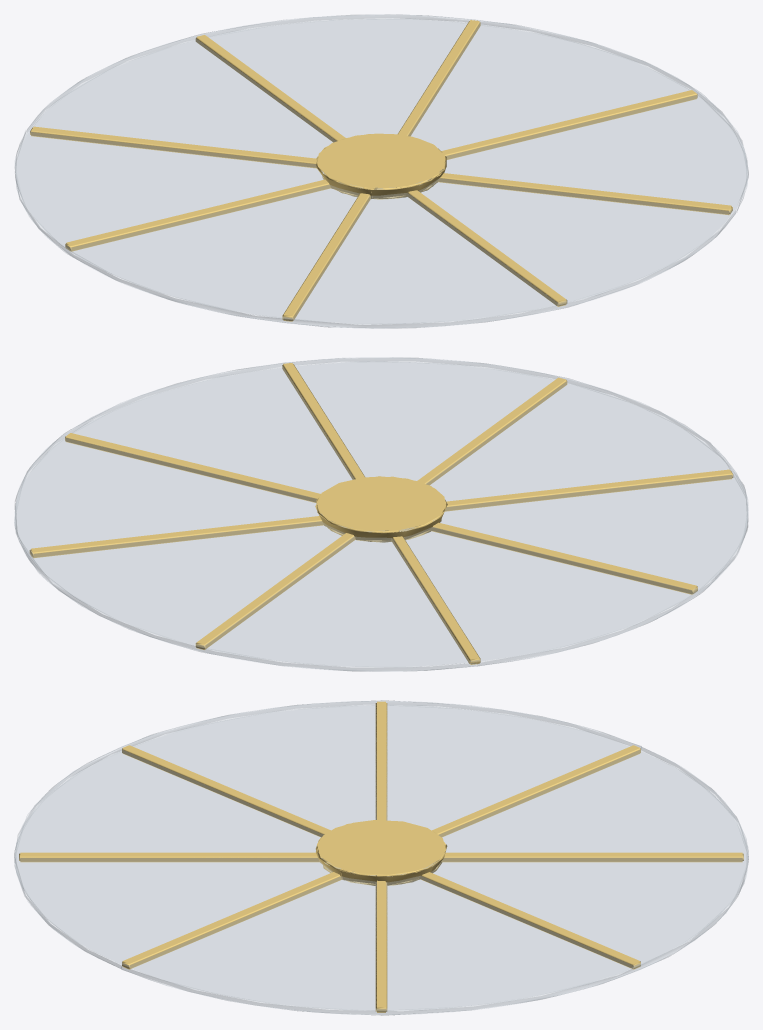
The model's file is boss_arena_glass.glb.
The picture shows the model from 3 angles, top to bottom: view 1: azimuth 30°, elevation 25°; view 2: azimuth 150°, elevation 25°; view 3: azimuth 270°, elevation 25°; orthographic projection.
Visible parts, largest first — view 1: GlassDisk, CenterGlassHub, Mullion_-0.79, Mullion_0.00, Mullion_1.57, Mullion_0.79; view 2: GlassDisk, CenterGlassHub, Mullion_0.79, Mullion_0.00, Mullion_1.57, Mullion_-0.79; view 3: GlassDisk, CenterGlassHub, Mullion_1.57, Mullion_-0.79, Mullion_0.79, Mullion_0.00.
Boxes of the visible parts, <box> form: GlassDisk: <box>14,14,748,328</box>; CenterGlassHub: <box>316,133,446,199</box>; Mullion_-0.79: <box>30,126,732,215</box>; Mullion_0.00: <box>65,90,697,251</box>; Mullion_1.57: <box>195,35,567,306</box>; Mullion_0.79: <box>282,20,480,321</box>; GlassDisk: <box>14,357,748,671</box>; CenterGlassHub: <box>315,476,447,542</box>; Mullion_0.79: <box>29,469,733,558</box>; Mullion_0.00: <box>65,433,697,594</box>; Mullion_1.57: <box>195,377,567,649</box>; Mullion_-0.79: <box>282,363,480,664</box>; GlassDisk: <box>14,700,748,1015</box>; CenterGlassHub: <box>315,820,447,885</box>; Mullion_1.57: <box>19,852,743,862</box>; Mullion_-0.79: <box>122,745,640,969</box>; Mullion_0.79: <box>122,745,640,969</box>; Mullion_0.00: <box>375,701,387,1012</box>.
Size of the model in its own units: 11.25 by 0.2406 by 11.25.
